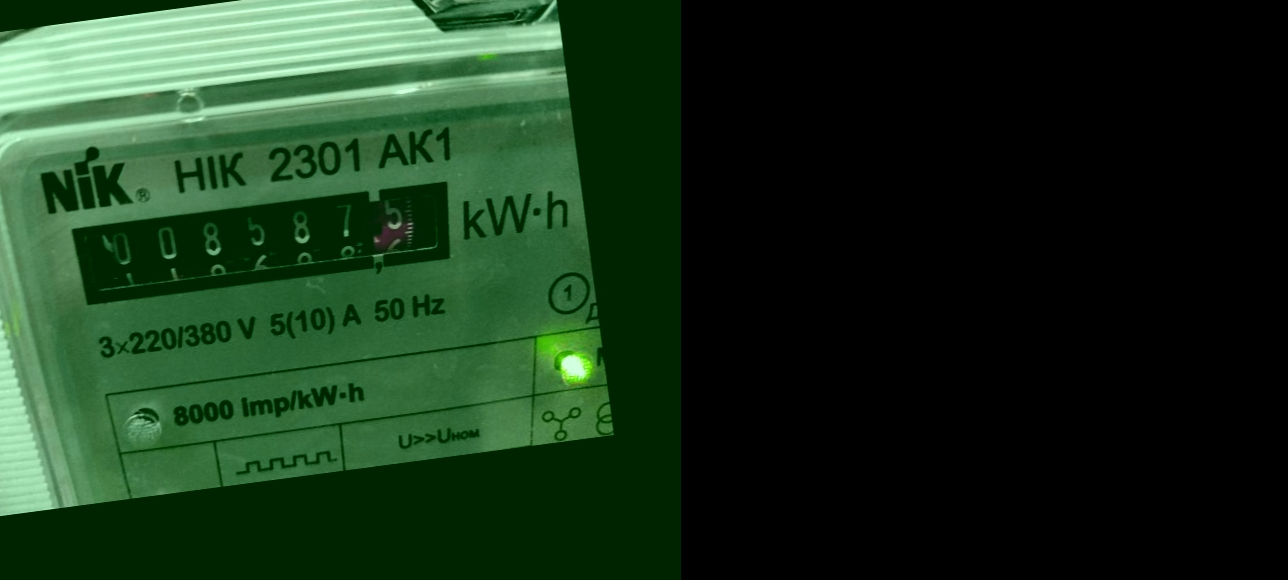0: (151, 219, 180, 262)
1: (105, 225, 135, 269)
5: (378, 190, 407, 233), (241, 208, 269, 249)
7: (330, 198, 358, 241)
8: (195, 215, 225, 259), (286, 204, 312, 247)
screen: (48, 156, 478, 329)
